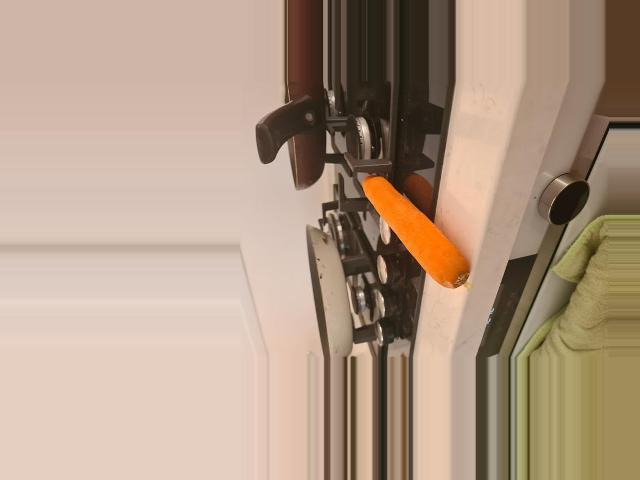carrot: (360, 172, 473, 286)
